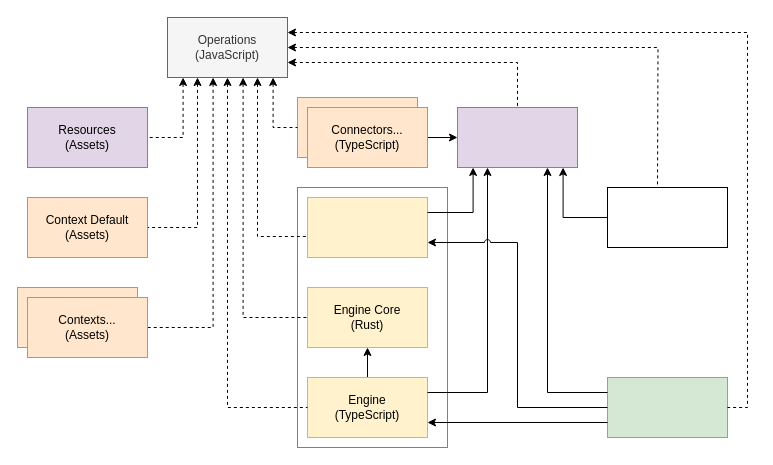
Image size: 773x465. Some labels were removed from this diagram. The centre of each missing label's shape, as x and y in pixels:
"Backend (TypeScript)" belongs at (x=667, y=217).
"Engine Worker (TypeScript)" belongs at (x=367, y=227).
"Frontend (TypeScript)" belongs at (x=667, y=407).
"Support (TypeScript)" belongs at (x=517, y=137).
